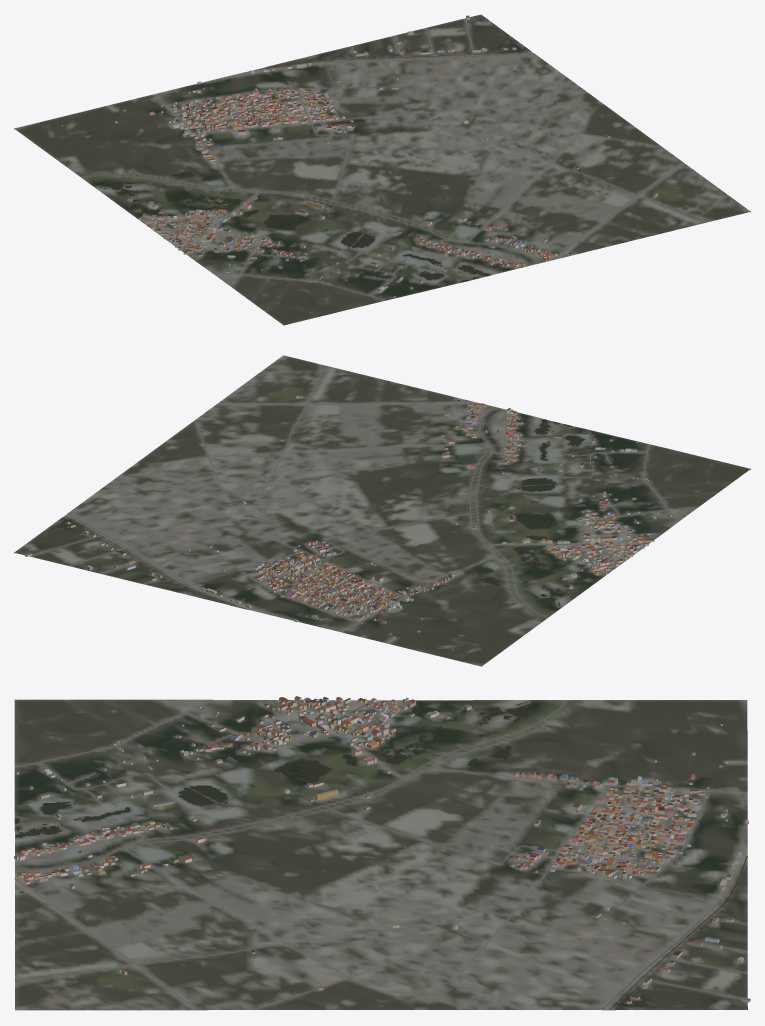
3 renders of one model, top to bottom at view 1: azimuth 30°, elevation 25°; view 2: azimuth 150°, elevation 25°; view 3: azimuth 270°, elevation 25°, orthographic. The views are drawn at different scales.
Parts seen in each view (by area): view 1: ground, buildings, roads, water; view 2: ground, buildings, roads, water; view 3: ground, buildings, roads, water.
Boxes of the visible parts, x1,y1,x2,y2 form: ground: (14,14,750,325); buildings: (61,15,657,297); roads: (81,18,727,300); water: (95,51,571,282); ground: (14,355,750,666); buildings: (25,395,671,650); roads: (29,365,678,632); water: (65,400,584,609); ground: (14,699,747,1010); buildings: (14,696,750,1003); roads: (14,699,747,1010); water: (15,702,747,1010).
Size of the model in its own units: 1410 by 16.16 by 1410.
